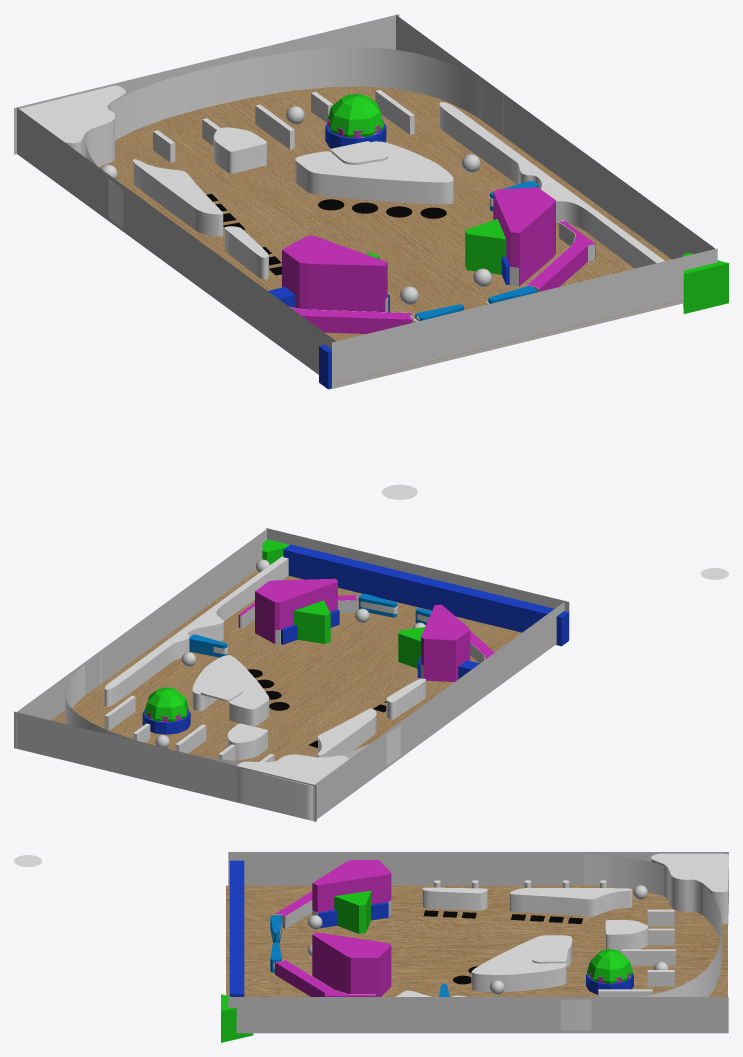
3 renders of one model, top to bottom at view 1: azimuth 30°, elevation 25°; view 2: azimuth 150°, elevation 25°; view 3: azimuth 270°, elevation 25°, orthographic. The views are drawn at different scales.
Visible parts, largest first — view 1: PLANE_0, PLANE_4, PV_top_rail, PLANE_2, PLANE_1, P_left_inlane, PV_middle, PV_right, P_right_inlane, PV_top, PLANE_3, PV_left_top (+8 smaller); view 2: PLANE_0, PLANE_3, PLANE_2, SWITCH_001, PLANE_1, PV_top, PV_right, P_right_inlane, PLANE_4, P_left_inlane, PV_middle, PV_top_rail (+12 smaller); view 3: PLANE_0, PLANE_1, PLANE_2, P_right_inlane, PV_top_rail, PV_top, PV_middle, P_left_inlane, PV_left_top, SWITCH_001, PV_left_bottom, FORCE_002 (+12 smaller).
Part boxes in pixels (<box>): PLANE_0: <box>99,86,683,384</box>; PLANE_4: <box>332,248,717,388</box>; PV_top_rail: <box>85,47,503,228</box>; PLANE_2: <box>17,107,335,374</box>; PLANE_1: <box>396,15,714,259</box>; P_left_inlane: <box>282,235,412,333</box>; PV_middle: <box>295,141,453,204</box>; PV_right: <box>439,102,664,268</box>; P_right_inlane: <box>493,187,595,291</box>; PV_top: <box>19,85,125,166</box>; PLANE_3: <box>14,14,399,154</box>; PV_left_top: <box>133,159,223,236</box>; PLANE_0: <box>51,570,521,761</box>; PLANE_3: <box>14,711,316,821</box>; PLANE_2: <box>314,602,564,821</box>; SWITCH_001: <box>283,544,568,646</box>; PLANE_1: <box>16,529,266,748</box>; PV_top: <box>237,754,348,820</box>; PV_right: <box>104,556,288,706</box>; P_right_inlane: <box>238,578,357,643</box>; PLANE_4: <box>266,528,569,638</box>; P_left_inlane: <box>421,604,494,682</box>; PV_middle: <box>192,655,269,726</box>; PV_top_rail: <box>65,653,400,765</box>; PLANE_0: <box>226,885,727,996</box>; PLANE_1: <box>228,997,728,1033</box>; PLANE_2: <box>228,852,728,885</box>; P_right_inlane: <box>275,932,391,996</box>; PV_top_rail: <box>561,854,722,1030</box>; PV_top: <box>651,853,728,924</box>; PV_middle: <box>471,935,572,991</box>; P_left_inlane: <box>275,860,391,916</box>; PV_left_top: <box>509,888,632,916</box>; SWITCH_001: <box>229,860,244,996</box>; PV_left_bottom: <box>422,887,487,910</box>; FORCE_002: <box>334,890,371,933</box>.
Size of the model in its own units: 7.8 by 13.16 by 1.16.
Materials: 29 (5 with a texture image).
